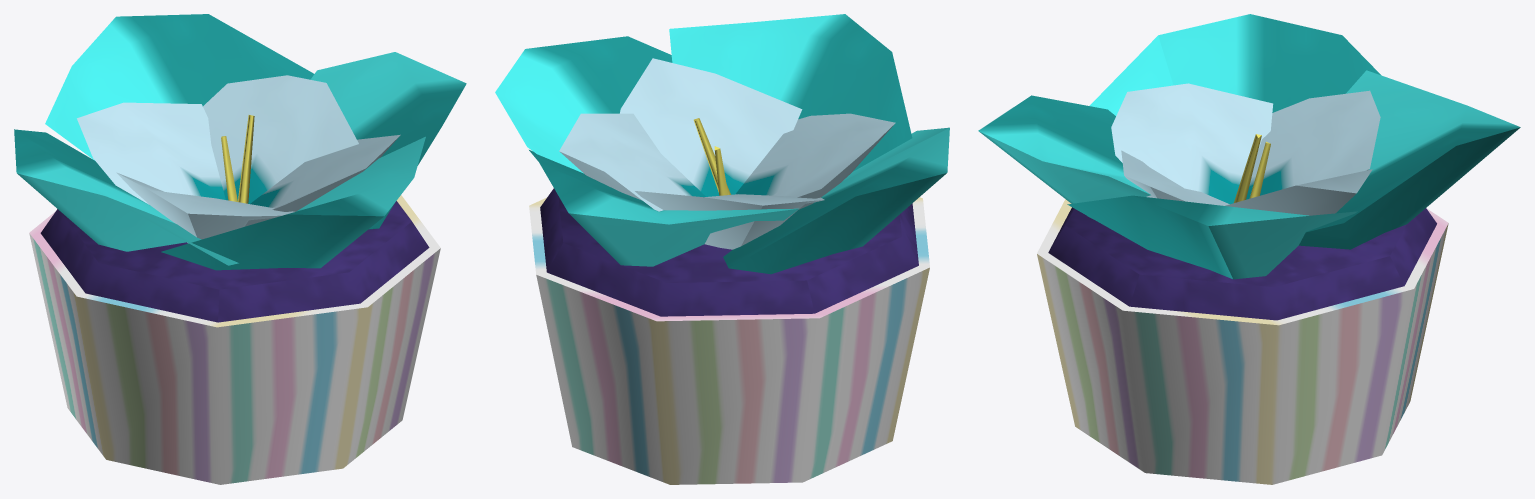
The model's file is Cupcake_B_23.FBX.
The picture shows the model from 3 angles, left to right: view 1: azimuth 30°, elevation 25°; view 2: azimuth 150°, elevation 25°; view 3: azimuth 270°, elevation 25°; orthographic projection. The views are drawn at different scales.
Visible parts, largest first — view 1: Cupcake_B; view 2: Cupcake_B; view 3: Cupcake_B.
Boxes of the visible parts, x1,y1,x2,y2 form: Cupcake_B: (14, 14, 466, 484); Cupcake_B: (495, 14, 949, 484); Cupcake_B: (978, 14, 1520, 484).
Size of the model in its own units: 38.73 by 26.15 by 41.87.
